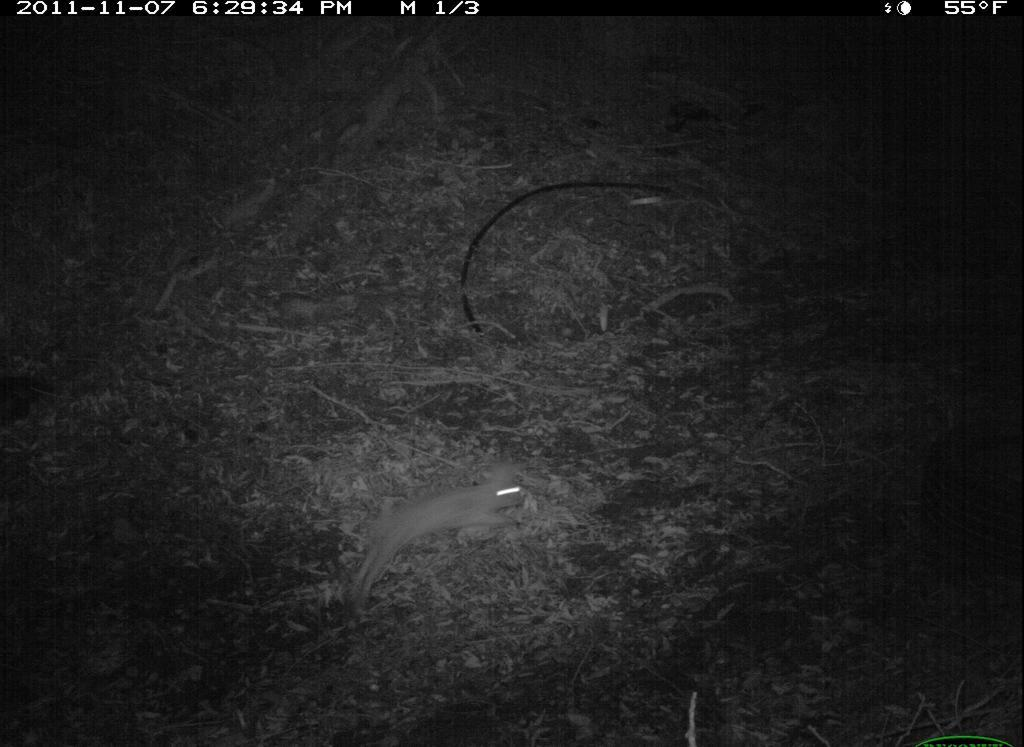rabbit: (344, 461, 534, 612)
